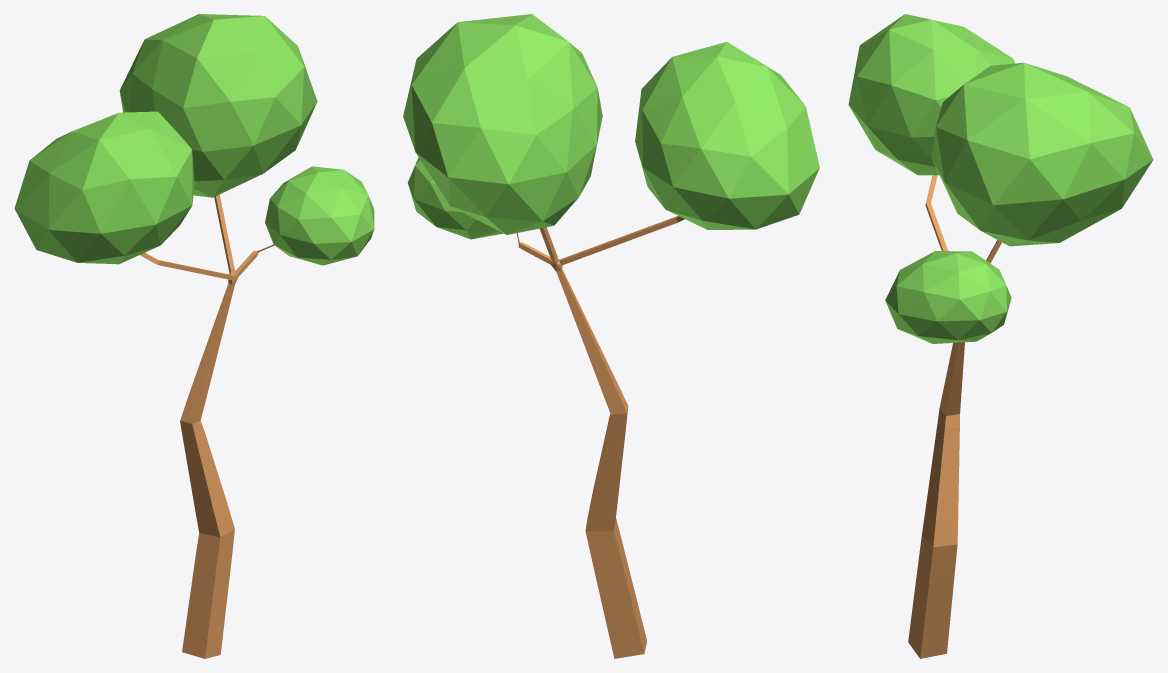
Rendered from tree5.fbx.
3 views of the same model, side by side, from view 1: azimuth 30°, elevation 25°; view 2: azimuth 150°, elevation 25°; view 3: azimuth 270°, elevation 25° (orthographic). The views are drawn at different scales.
Visible parts, largest first — view 1: Icosphere.001, Icosphere, Cube, Icosphere.002; view 2: Icosphere.001, Icosphere, Cube, Icosphere.002; view 3: Icosphere.001, Icosphere, Cube, Icosphere.002.
Part boxes in pixels (x1,y1,x2,y2): Icosphere.001: (119, 14, 317, 197); Icosphere: (14, 111, 194, 264); Cube: (140, 194, 274, 658); Icosphere.002: (265, 166, 374, 265); Icosphere.001: (403, 14, 602, 234); Icosphere: (635, 42, 819, 229); Cube: (516, 216, 684, 658); Icosphere.002: (407, 157, 502, 239); Icosphere.001: (931, 62, 1153, 246); Icosphere: (848, 14, 1014, 175); Cube: (908, 175, 1001, 658); Icosphere.002: (885, 251, 1011, 343).
Size of the model in its own units: 616 by 1011 by 452.
